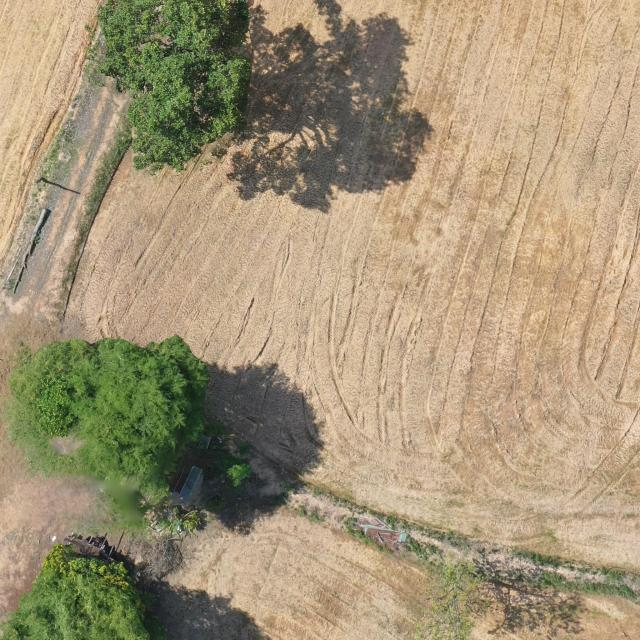tree: (12, 331, 208, 504), (94, 0, 253, 174), (0, 540, 153, 640), (414, 555, 499, 640)
